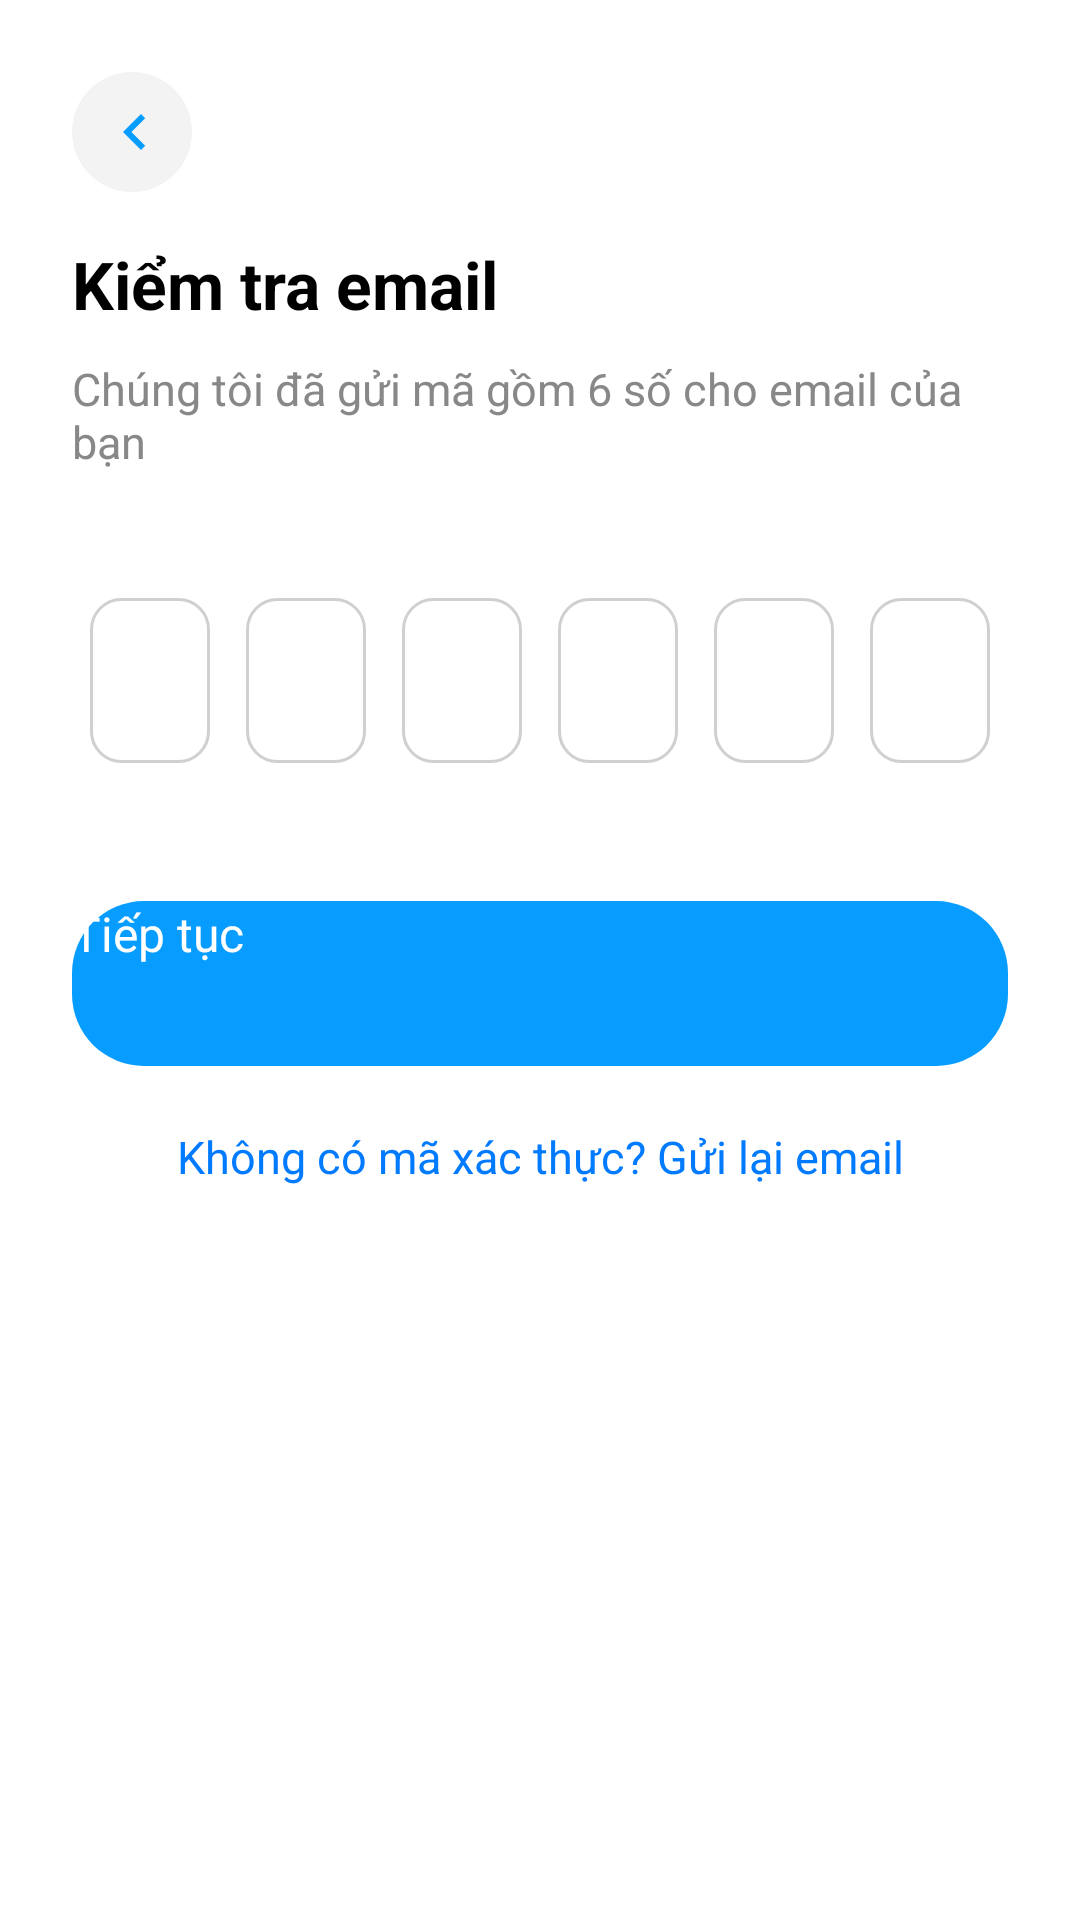

Named icons in this screenshot (1080 × 1920) and their bounding boxes, (x1=x1, y1=y1, x2=x2, y2=y2):
back: (x1=72, y1=72, x2=192, y2=192)
